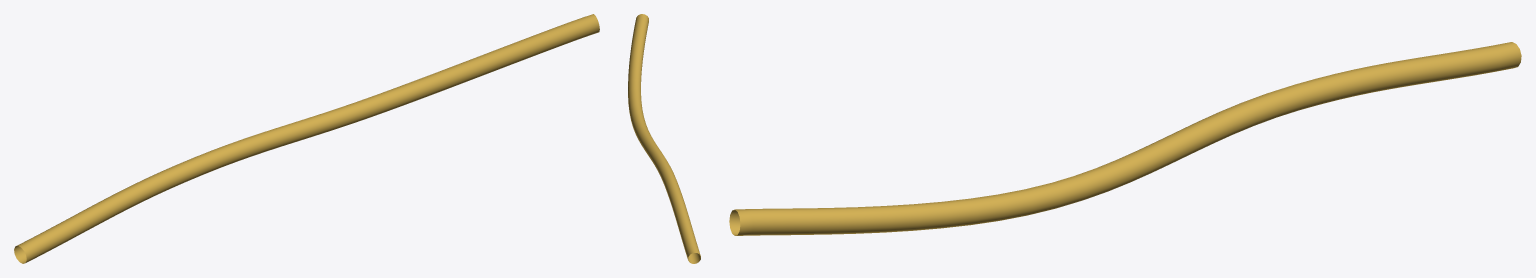
3 views of the same model, side by side, from view 1: azimuth 90°, elevation 25°; view 2: azimuth 150°, elevation 25°; view 3: azimuth 270°, elevation 25° (orthographic). The views are drawn at different scales.
Visible parts, largest first — view 1: 右侧腓深神经肌支; view 2: 右侧腓深神经肌支; view 3: 右侧腓深神经肌支.
Part boxes in pixels (bbox=[...]): 右侧腓深神经肌支: bbox=[14, 14, 599, 263]; 右侧腓深神经肌支: bbox=[628, 14, 700, 263]; 右侧腓深神经肌支: bbox=[729, 42, 1521, 235].
Bounding box in the file's own units: 0.0325 × 0.00583 × 0.0436.
